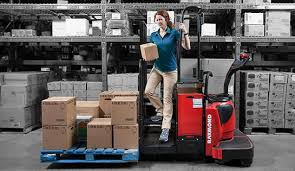Pallet Jack: (37, 54, 256, 169)
